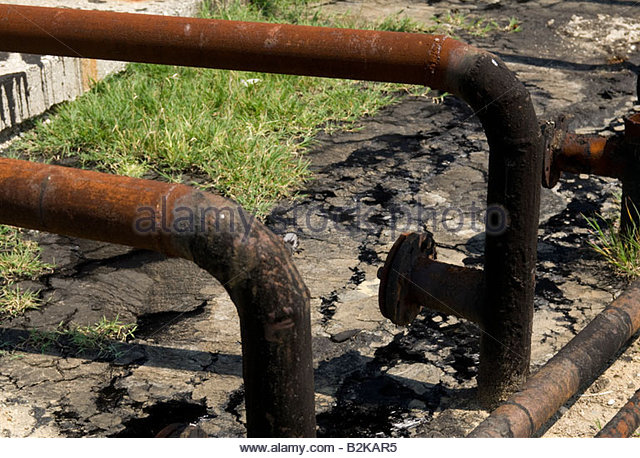rust: (3, 6, 269, 72), (3, 161, 124, 239)
